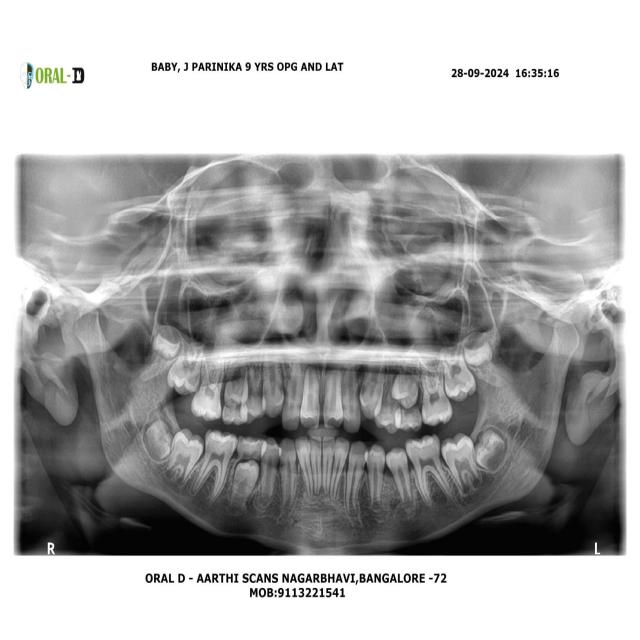Premolars: (386, 439, 414, 512), (366, 442, 386, 510)
